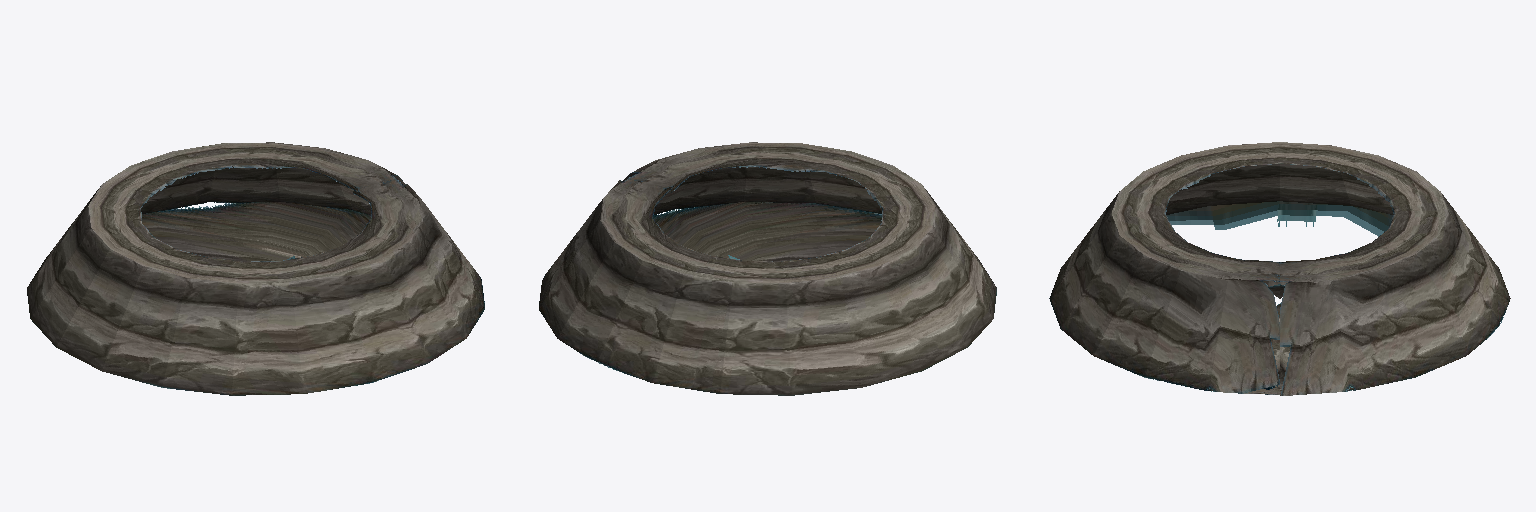
3 views of the same model, side by side, from view 1: azimuth 30°, elevation 25°; view 2: azimuth 150°, elevation 25°; view 3: azimuth 270°, elevation 25° (orthographic).
Visible parts, largest first — view 1: pPipe1; view 2: pPipe1; view 3: pPipe1.
Part boxes in pixels (bbox=[...]): pPipe1: bbox=[27, 142, 484, 395]; pPipe1: bbox=[539, 142, 996, 395]; pPipe1: bbox=[1049, 142, 1510, 395].
Size of the model in its own units: 4.88 by 1 by 4.88.
1 materials, 1 textured.